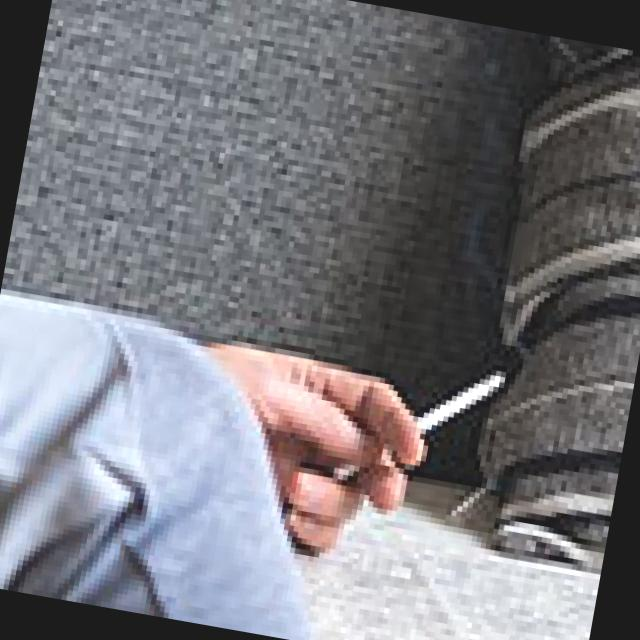cigarette: (411, 363, 508, 447)
